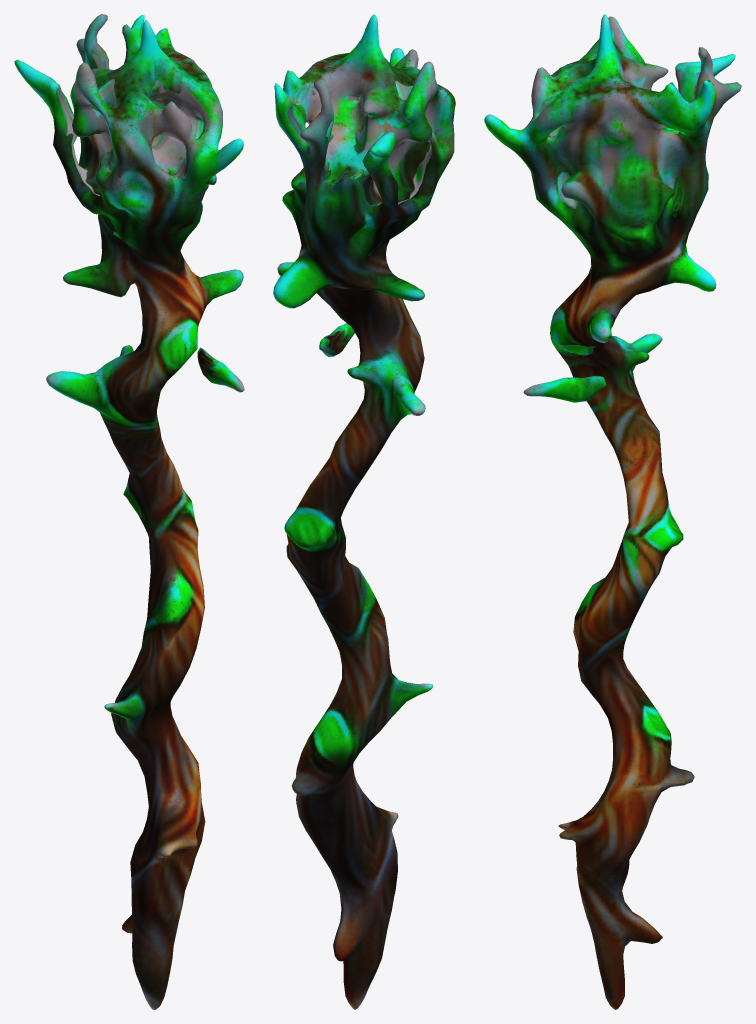
Rendered from fbab768825d4_5bc5c0344a0b_model.glb.
3 renders of one model, left to right at view 1: azimuth 30°, elevation 25°; view 2: azimuth 150°, elevation 25°; view 3: azimuth 270°, elevation 25°, orthographic.
Parts seen in each view (by area): view 1: mesh; view 2: mesh; view 3: mesh.
Part boxes in pixels (bbox=[...]): mesh: bbox=[14, 14, 244, 1009]; mesh: bbox=[273, 14, 455, 1009]; mesh: bbox=[484, 14, 741, 1009].
Bounding box in the file's own units: 0.1774 × 0.9958 × 0.2351.
Materials: 1 (1 with a texture image).
